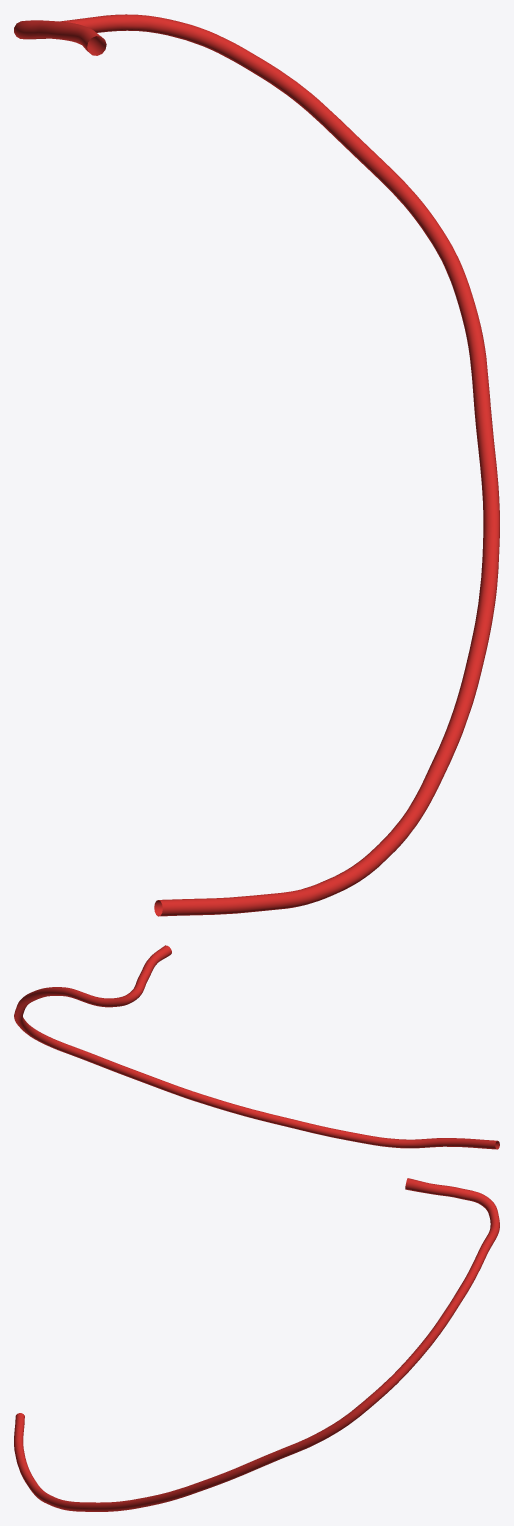
The model's file is circulatorio-second-posterior-intercostal-artery-l.glb.
The picture shows the model from 3 angles, top to bottom: view 1: azimuth 30°, elevation 25°; view 2: azimuth 150°, elevation 25°; view 3: azimuth 270°, elevation 25°; orthographic projection. The views are drawn at different scales.
Parts seen in each view (by area): view 1: Second posterior intercostal artery.l; view 2: Second posterior intercostal artery.l; view 3: Second posterior intercostal artery.l.
Boxes of the visible parts, x1,y1,x2,y2 form: Second posterior intercostal artery.l: (14, 14, 499, 916); Second posterior intercostal artery.l: (14, 945, 499, 1149); Second posterior intercostal artery.l: (14, 1178, 499, 1511).
Bounding box in the file's own units: 0.0822 × 0.0786 × 0.1024.
